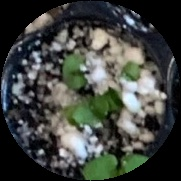Basil: (82, 149, 153, 176), (72, 97, 118, 119), (62, 55, 92, 86)
